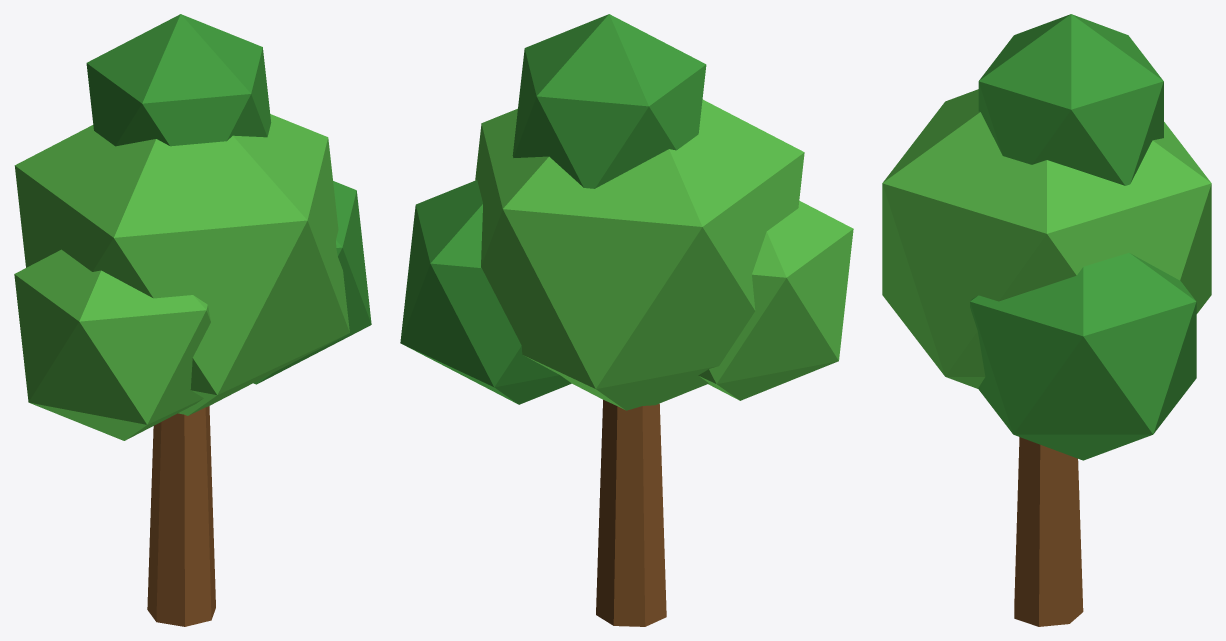
File: tree.glb
3 renders of one model, left to right at view 1: azimuth 30°, elevation 25°; view 2: azimuth 150°, elevation 25°; view 3: azimuth 270°, elevation 25°, orthographic. The views are drawn at different scales.
Visible parts, largest first — view 1: Tree; view 2: Tree; view 3: Tree.
Part boxes in pixels (bbox=[...]): Tree: bbox=[14, 14, 371, 626]; Tree: bbox=[400, 14, 853, 626]; Tree: bbox=[882, 14, 1211, 626].
Bounding box in the file's own units: 3.62 × 5.5 × 2.72.
